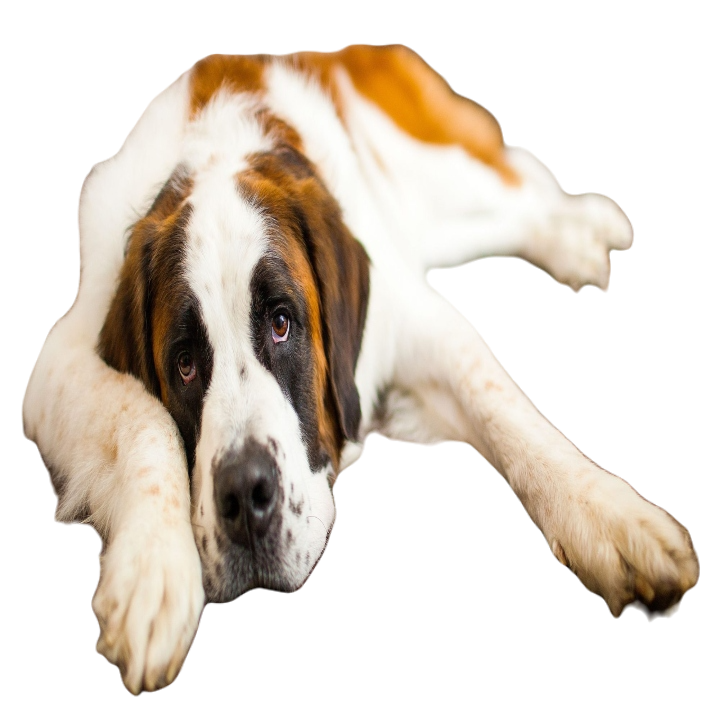Dog: (21, 42, 701, 696)
